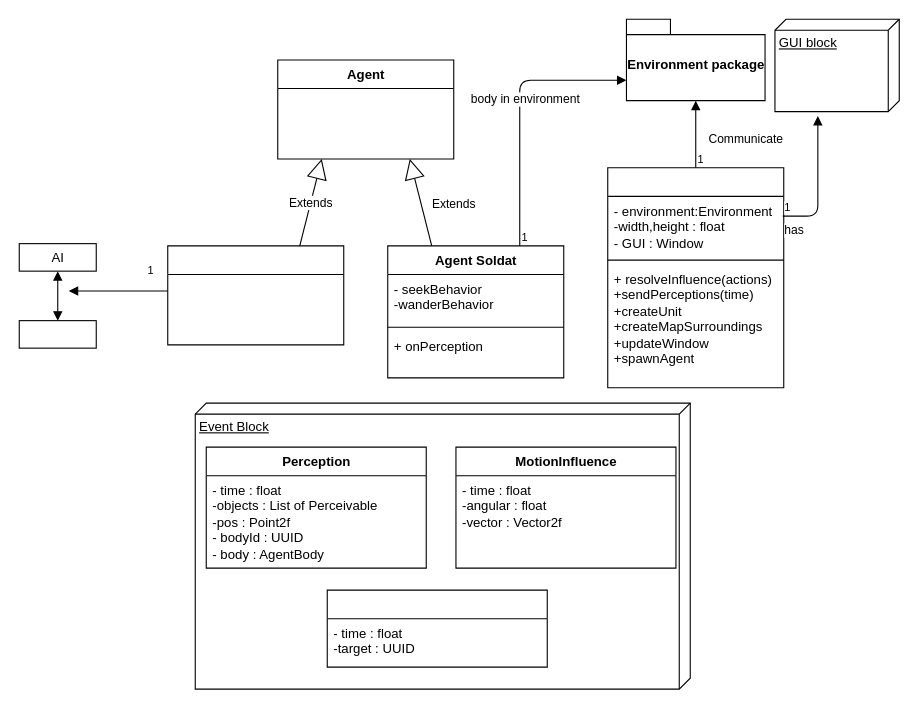
This 919x708 diagram has some shape labels left out. The shapes that lost their labels are listed below. From the top down, each one's box as (x1, y1, x2, y2) in pixels, then its label:
(167, 245, 344, 345): Agent General
(607, 167, 784, 388): EnvironmentAgent
(18, 320, 96, 348): Player
(326, 589, 547, 667): ShootInfluence
